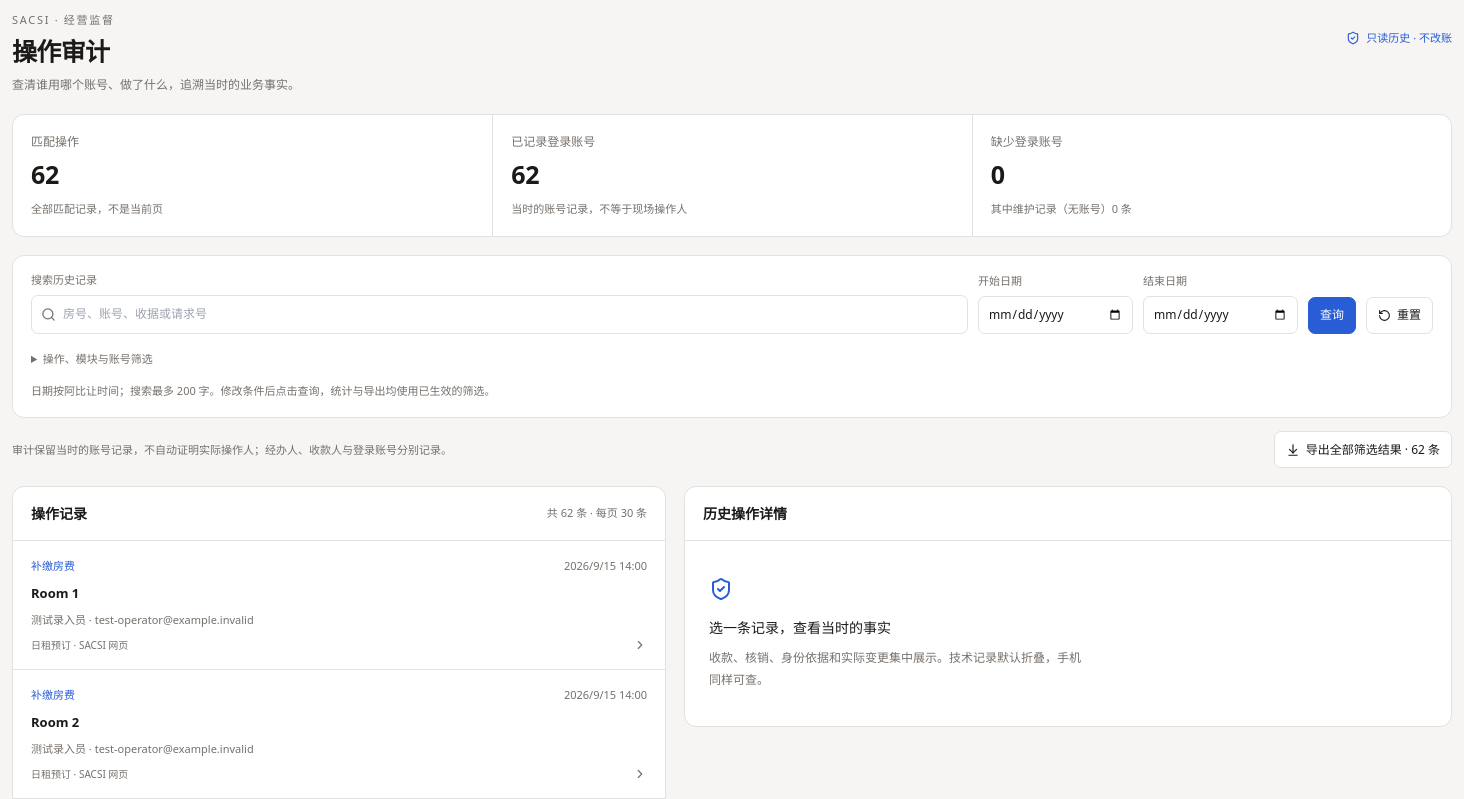
Test case: paged audit workbench › discards the old SSR snapshot and aborts requests when the account changes
Step 1. Click the 4th button → (53, 566), box [13,541,665,669]
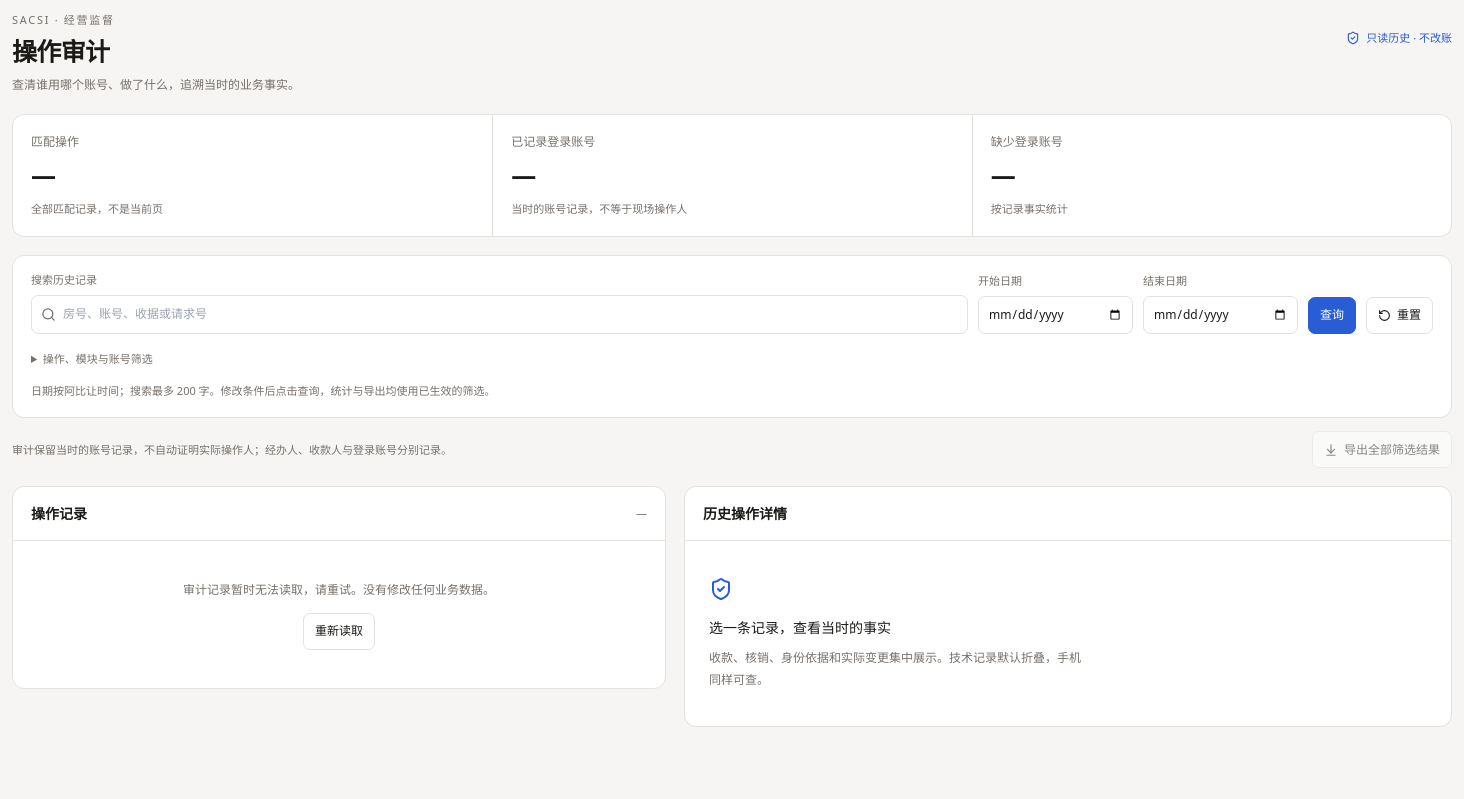
Now the text "Room 1" is gone
